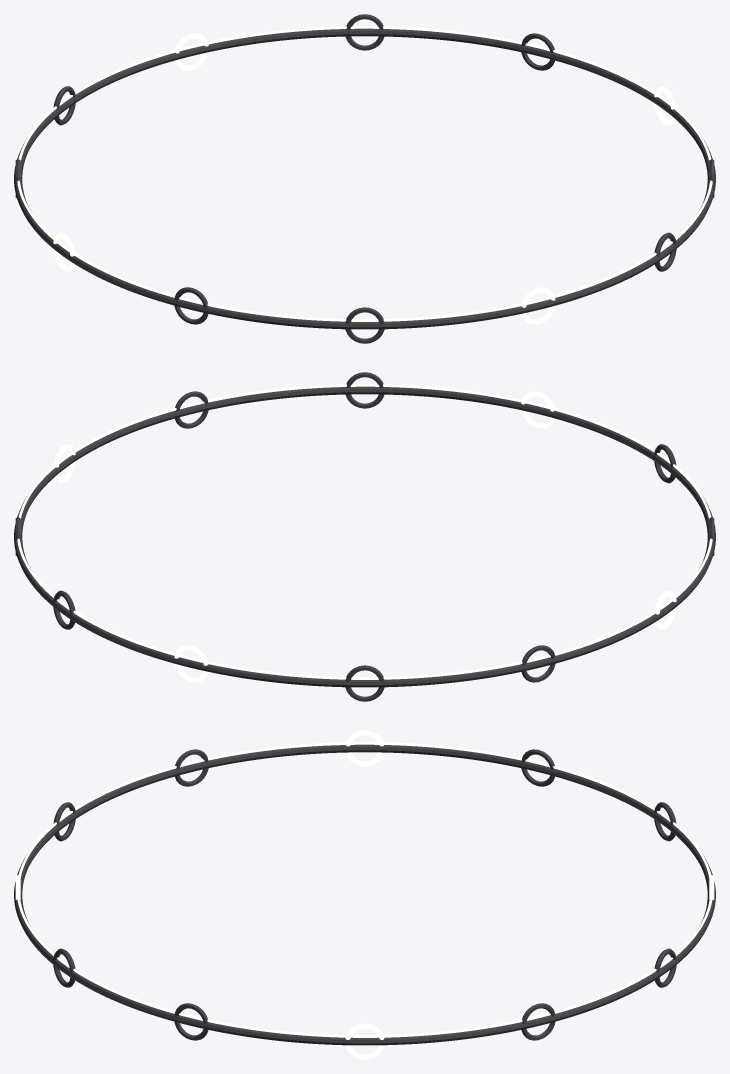
File: OS_AcceleratorRing.fbx
The picture shows the model from 3 angles, top to bottom: view 1: azimuth 30°, elevation 25°; view 2: azimuth 150°, elevation 25°; view 3: azimuth 270°, elevation 25°; orthographic projection.
Parts seen in each view (by area): view 1: OS_AcceleratorRing; view 2: OS_AcceleratorRing; view 3: OS_AcceleratorRing.
Boxes of the visible parts, x1,y1,x2,y2 form: OS_AcceleratorRing: (14, 14, 715, 343); OS_AcceleratorRing: (14, 372, 715, 701); OS_AcceleratorRing: (14, 730, 715, 1059).
Bounding box in the file's own units: 2.02 × 2.02 × 0.116.
